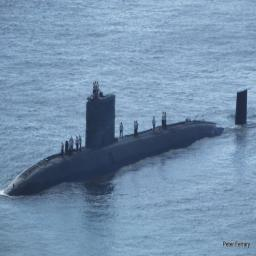submarine: (4, 80, 254, 199)
